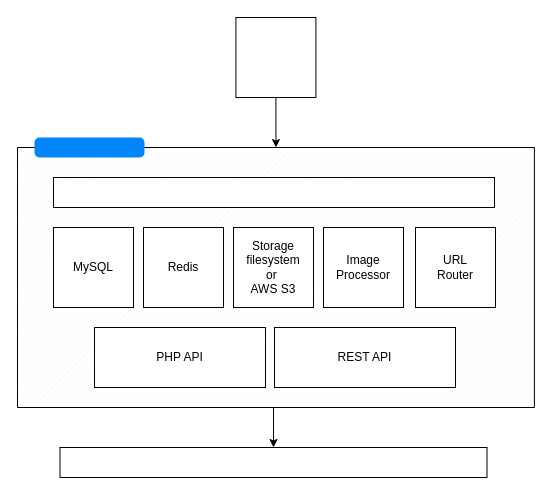
Image size: 552x495. Some labels were removed from this diagram. Here are the shapes that lost their labels. From the top down, the centre of each, then its label:
pixel 275 57: pressmind PIM
pixel 89 147: pressmid SDK
pixel 273 192: Importer
pixel 273 462: custom application
